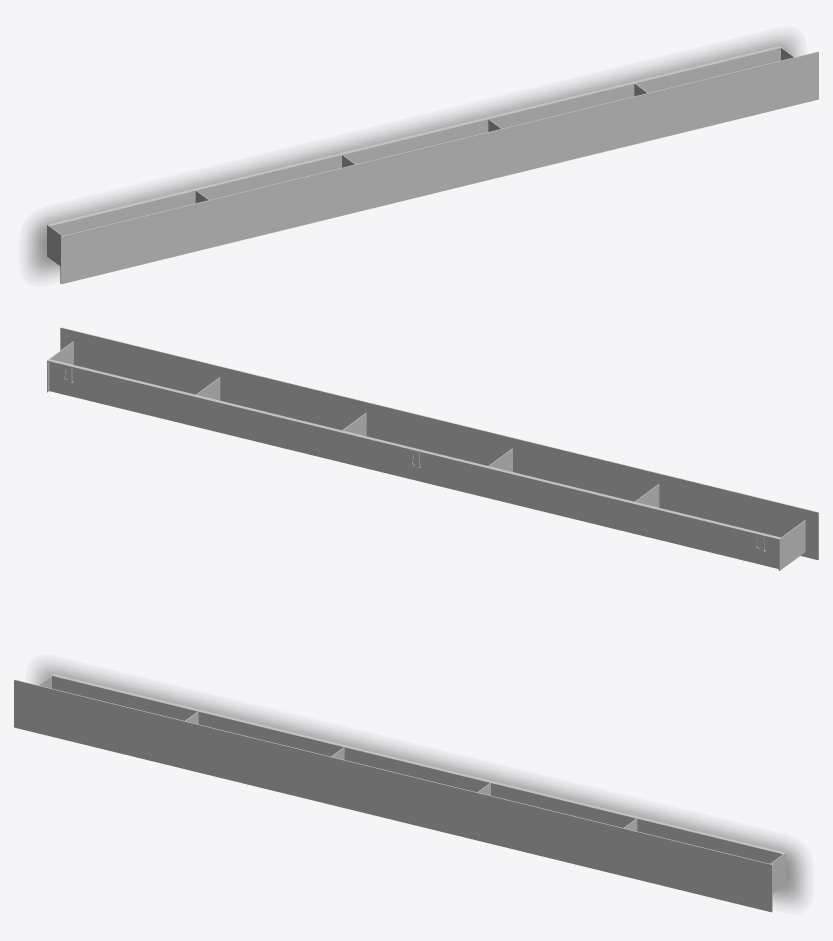
File: skyline-mono.33e9a8a958.ar.glb
3 renders of one model, top to bottom at view 1: azimuth 30°, elevation 25°; view 2: azimuth 150°, elevation 25°; view 3: azimuth 330°, elevation 25°, orthographic.
Visible parts, largest first — view 1: NAUO1, object 2; view 2: NAUO1; view 3: NAUO1, object 2.
Part boxes in pixels (<box>): NAUO1: <box>47,46,818,284</box>; object 2: <box>29,38,797,274</box>; NAUO1: <box>47,327,818,570</box>; NAUO1: <box>14,674,785,912</box>; object 2: <box>35,666,803,902</box>.
Bounding box in the file's own units: 1.58 × 0.17 × 0.093.
2 materials, 1 textured.
